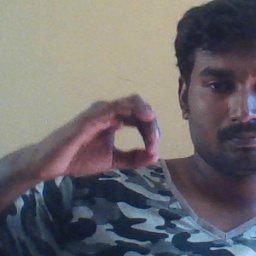O: (30, 89, 164, 185)
